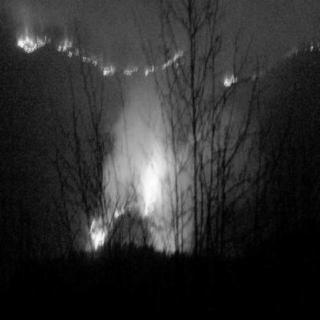Fire: (90, 115, 181, 249), (14, 22, 190, 78), (221, 73, 243, 91)
